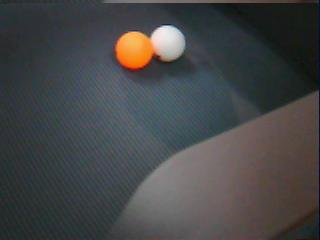oball: (115, 31, 152, 71)
